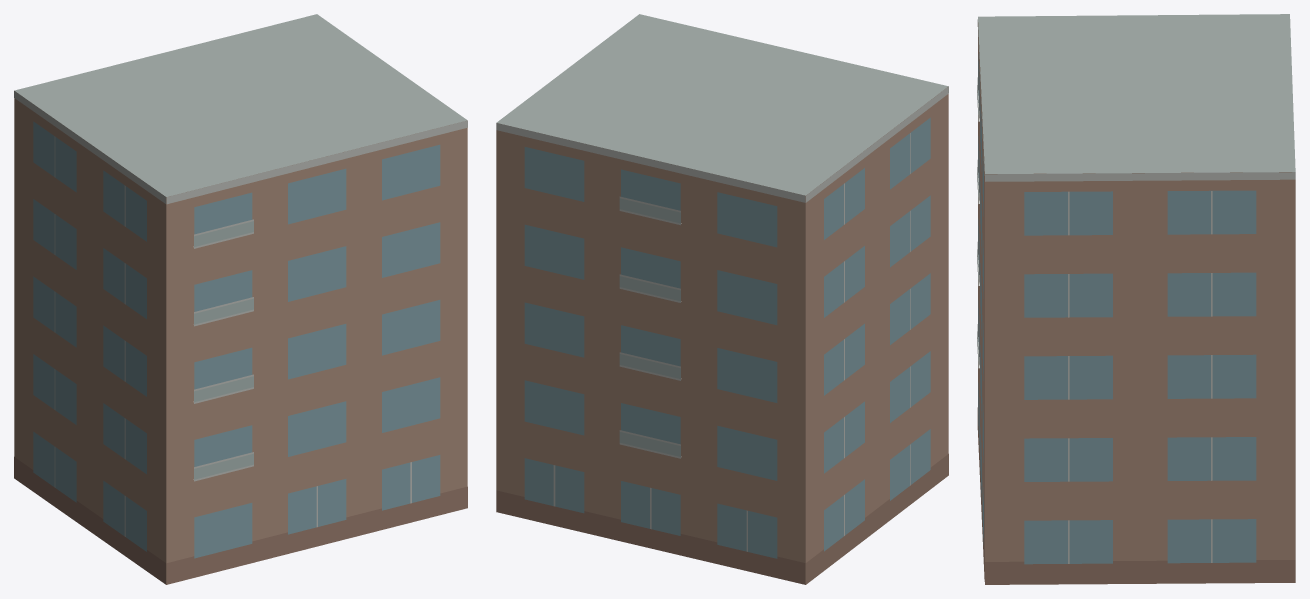
File: survey-upis-32899495.glb
3 renders of one model, left to right at view 1: azimuth 30°, elevation 25°; view 2: azimuth 150°, elevation 25°; view 3: azimuth 270°, elevation 25°, orthographic. The views are drawn at different scales.
Parts seen in each view (by area): view 1: survey-upis-32899495.tmp; view 2: survey-upis-32899495.tmp; view 3: survey-upis-32899495.tmp.
Part boxes in pixels (bbox=[...]): survey-upis-32899495.tmp: bbox=[14, 14, 467, 584]; survey-upis-32899495.tmp: bbox=[496, 14, 948, 584]; survey-upis-32899495.tmp: bbox=[977, 14, 1295, 584].
Size of the model in its own units: 10.88 by 13 by 9.14.
